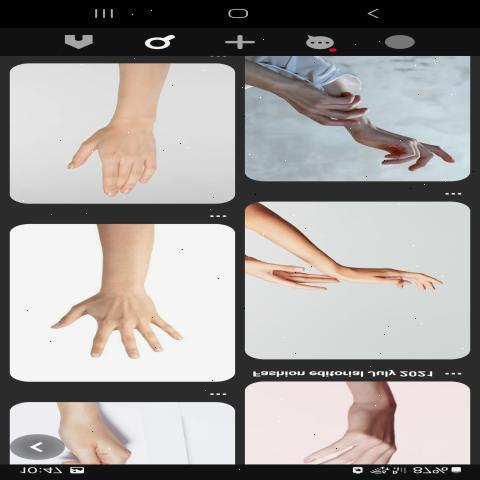Hands: (37, 245, 206, 371), (58, 110, 194, 202), (329, 244, 460, 308), (247, 76, 373, 142), (339, 112, 466, 176), (244, 249, 341, 321)
